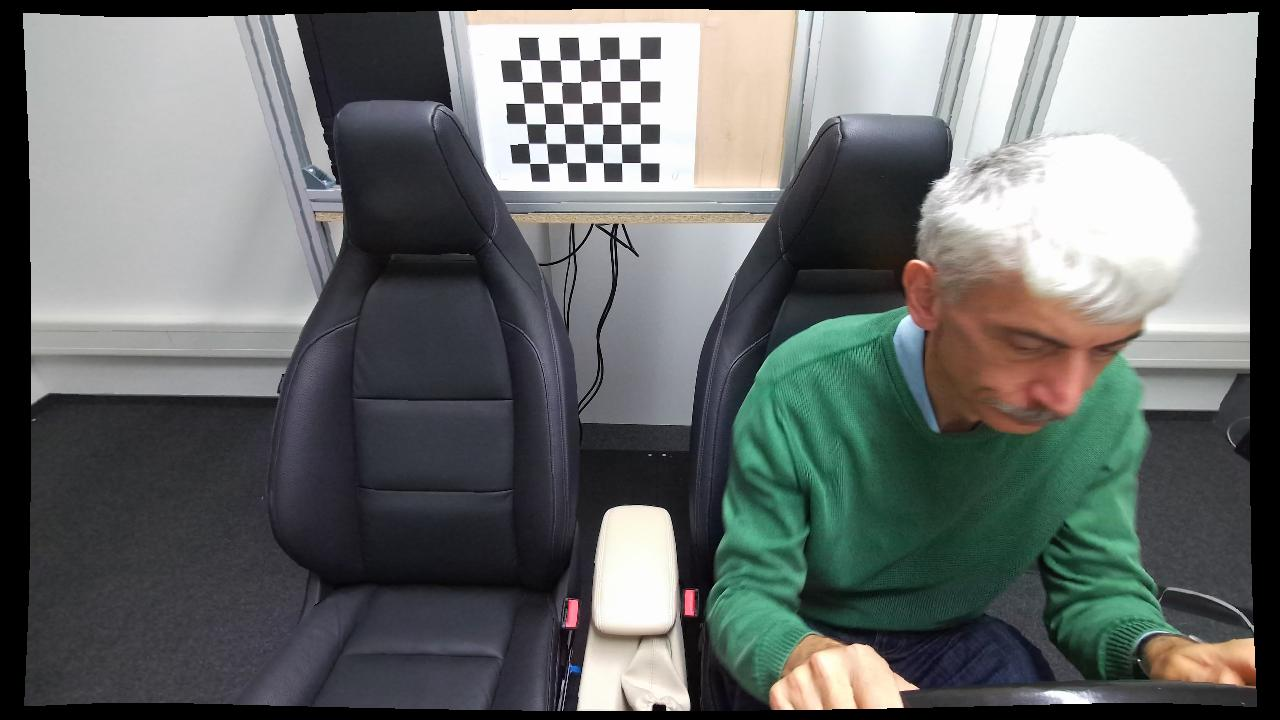Distracted: (700, 123, 1200, 713)
